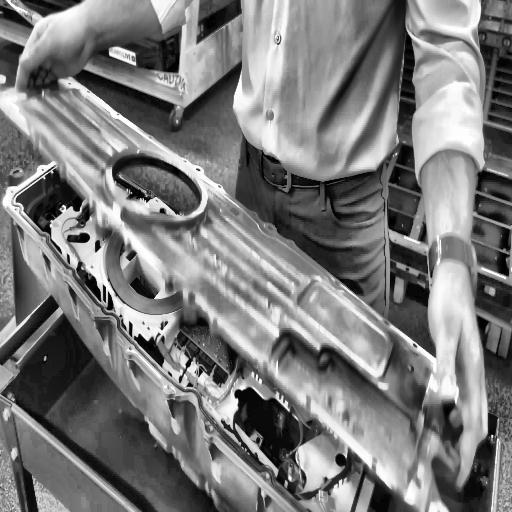bms_unit: (0, 50, 454, 512)
